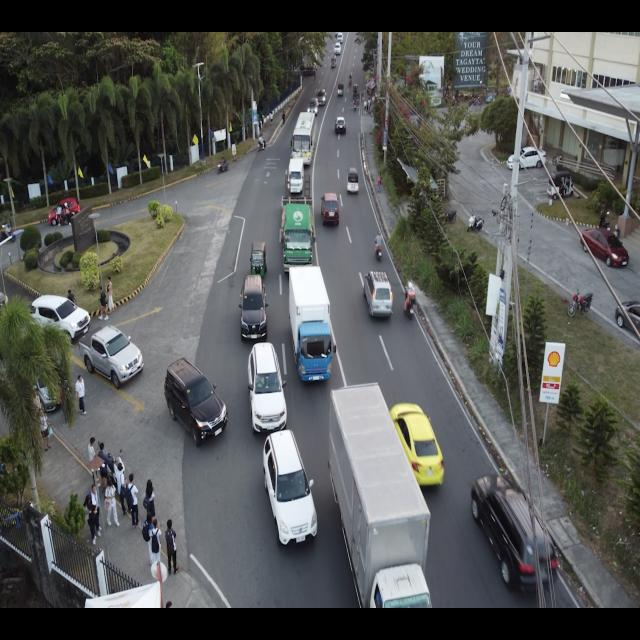bus: (289, 111, 317, 169)
car: (469, 470, 560, 605), (262, 429, 320, 550), (162, 356, 231, 450), (388, 398, 446, 489), (78, 324, 146, 392), (246, 341, 288, 434), (29, 294, 92, 345), (238, 273, 269, 343), (579, 226, 630, 268), (362, 270, 394, 320), (507, 145, 547, 171), (320, 192, 340, 227), (403, 280, 416, 321), (373, 230, 383, 262), (334, 116, 346, 135), (307, 97, 319, 116), (316, 88, 327, 106), (334, 42, 341, 55), (337, 32, 343, 44)
motorcycle: (566, 288, 594, 318), (251, 242, 268, 275), (466, 209, 484, 233), (216, 156, 228, 176)
person: (125, 472, 142, 530), (115, 463, 133, 516), (164, 518, 180, 576), (98, 442, 114, 496), (104, 480, 120, 530), (142, 511, 156, 567), (90, 483, 104, 537), (83, 494, 97, 545), (87, 437, 101, 488), (142, 476, 156, 524), (38, 408, 53, 452), (150, 519, 162, 570), (74, 375, 88, 415), (97, 286, 109, 322), (105, 276, 116, 314), (377, 173, 382, 194)
truck: (324, 378, 436, 618), (287, 264, 337, 387), (280, 169, 316, 279)
